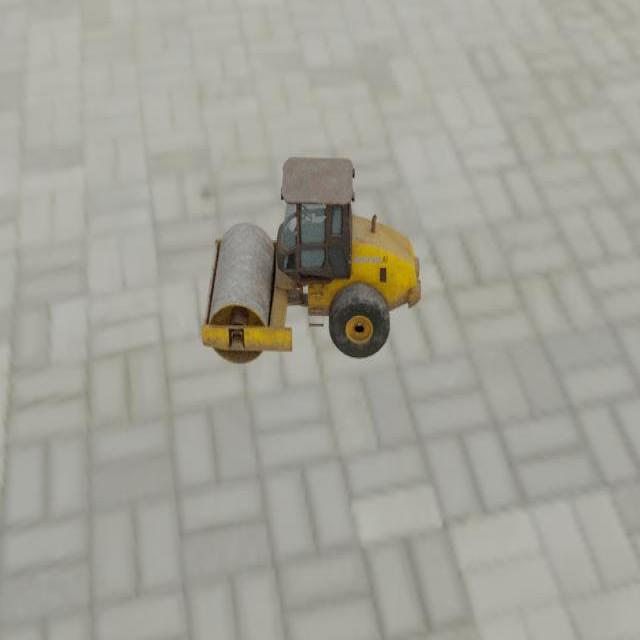Roller: (200, 156, 421, 364)
